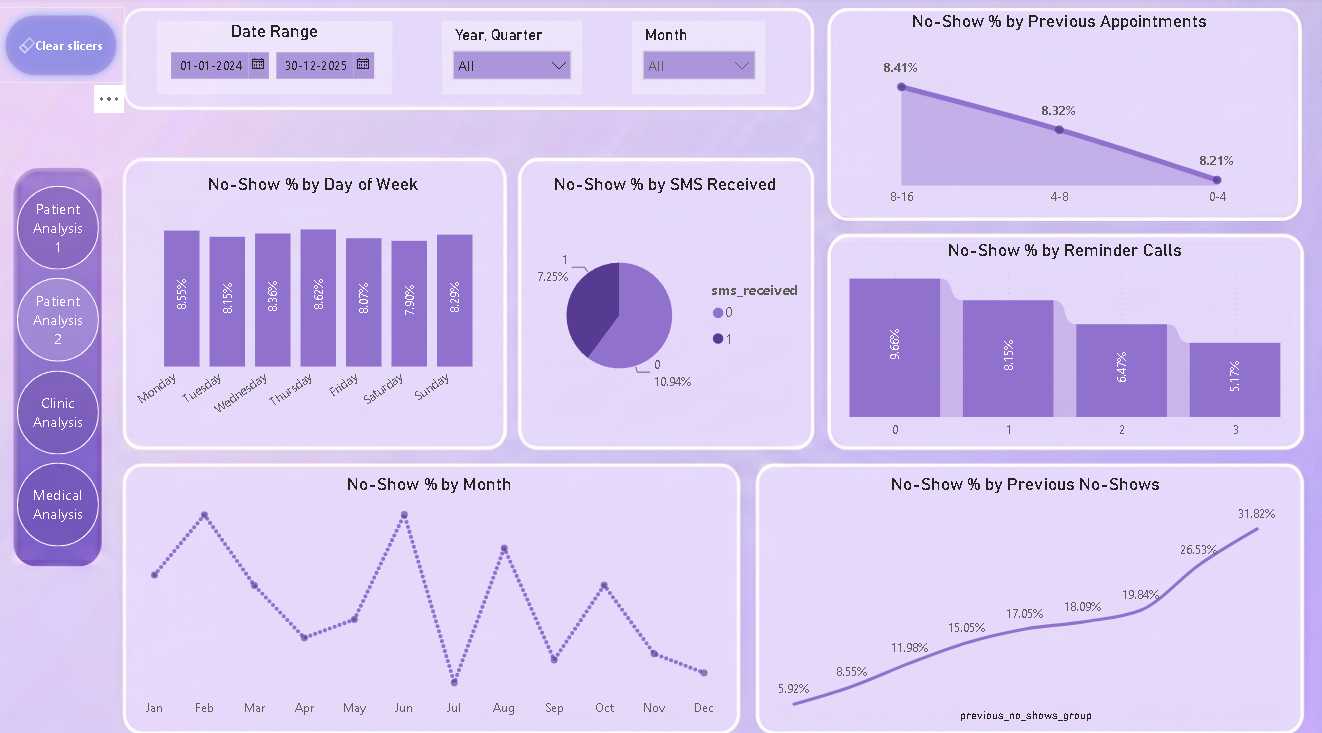

The dashboard page shown, as its layout file describes it:
{"tool":"powerbi","page":{"name":"Patient Analysis 2","canvas":[1280,720],"ordinal":1},"visuals":[{"type":"lineChart","title":"No-Show % by Month","fields":{"Y":["patient_behavior_analysis (3).NoShow_Percentage"],"Category":["Month_sort.month_name"]},"box":[127.9,459.7,579.1,244.9],"z":0},{"type":"pieChart","title":"No-Show % by SMS Received","fields":{"Category":["patient_behavior_analysis (other factors).sms_received"],"Y":["patient_behavior_analysis (3).NoShow_Percentage"]},"box":[506.7,170.1,276.3,255.8],"z":1000},{"type":"columnChart","title":"No-Show % by Reminder Calls","fields":{"Category":["patient_behavior_analysis (other factors).reminder_calls"],"Y":["patient_behavior_analysis (3).NoShow_Percentage"]},"box":[818,234,425.9,201.5],"z":2000},{"type":"lineChart","title":"No-Show % by Previous No-Shows","fields":{"Category":["patient_behavior_analysis (other factors).previous_no_shows_group"],"Y":["patient_behavior_analysis (3).NoShow_Percentage"]},"box":[742,459.7,501.9,244.9],"z":3000},{"type":"columnChart","title":"No-Show % by Day of Week","fields":{"Y":["patient_behavior_analysis (3).NoShow_Percentage"],"Category":["day_sort.day_of_week"]},"box":[127.9,170.1,354.7,255.8],"z":4000},{"type":"areaChart","title":"No-Show % by Previous Appointments","fields":{"Category":["patient_behavior_analysis (other factors).previous_appointments_group"],"Y":["patient_behavior_analysis (3).NoShow_Percentage"]},"box":[807.1,13.3,436.7,197.9],"z":5000},{"type":"slicer","title":"Date Range","fields":{"Values":["patient_behavior_analysis (3).appointment_day"]},"box":[154.4,22.9,226.8,71.2],"z":6000},{"type":"slicer","title":"Year, Qrt","fields":{"Values":["patient_behavior_analysis (3).appointment_day.Variation.Date Hierarchy.Year","patient_behavior_analysis (3).appointment_day.Variation.Date Hierarchy.Quarter"]},"box":[429.5,22.9,135.1,71.2],"z":7000},{"type":"slicer","fields":{"Values":["patient_behavior_analysis (3).appointment_day.Variation.Date Hierarchy.Month"]},"box":[612.9,22.9,129.1,71.2],"z":8000},{"type":"pageNavigator","box":[19.2,182.5,79.6,349.9],"z":9000},{"type":"actionButton","box":[0,9.6,123.5,74.1],"z":10000}]}

Visuals, with their boxes in screenshot pixels (x1, y1, x2, y2), scaled from the page's 1280x720 canvas onto the 1322x733 screenshot:
"No-Show % by Month" lineChart: <bbox>132, 468, 730, 717</bbox>
"No-Show % by SMS Received" pieChart: <bbox>523, 173, 809, 434</bbox>
"No-Show % by Reminder Calls" columnChart: <bbox>845, 238, 1285, 443</bbox>
"No-Show % by Previous No-Shows" lineChart: <bbox>766, 468, 1285, 717</bbox>
"No-Show % by Day of Week" columnChart: <bbox>132, 173, 498, 434</bbox>
"No-Show % by Previous Appointments" areaChart: <bbox>834, 14, 1285, 215</bbox>
"Date Range" slicer: <bbox>159, 23, 394, 96</bbox>
"Year, Qrt" slicer: <bbox>444, 23, 583, 96</bbox>
slicer - patient_behavior_analysis (3).appointment_day.Variation.Date Hierarchy.Month: <bbox>633, 23, 766, 96</bbox>
pageNavigator: <bbox>20, 186, 102, 542</bbox>
actionButton: <bbox>0, 10, 128, 85</bbox>
